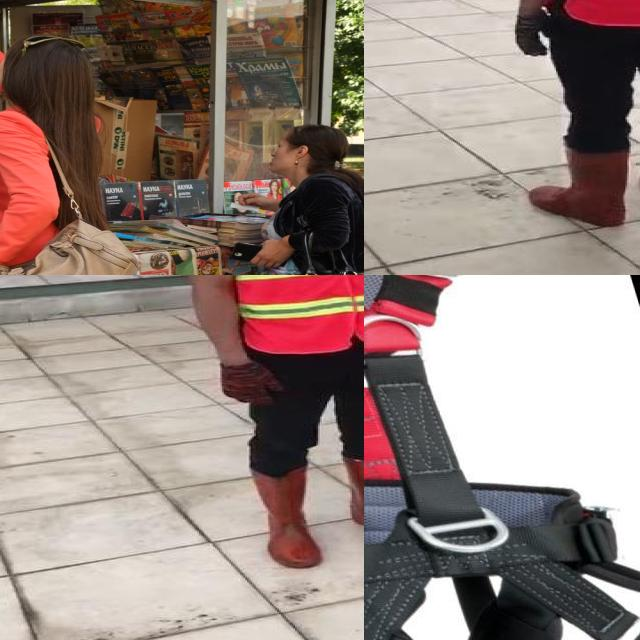Harness: (364, 275, 640, 640)
boots: (529, 147, 631, 230), (250, 470, 324, 565)
hand_glove: (224, 362, 282, 405), (514, 9, 554, 56)
person: (164, 275, 364, 567), (502, 0, 640, 229)
vest: (229, 275, 364, 352)
